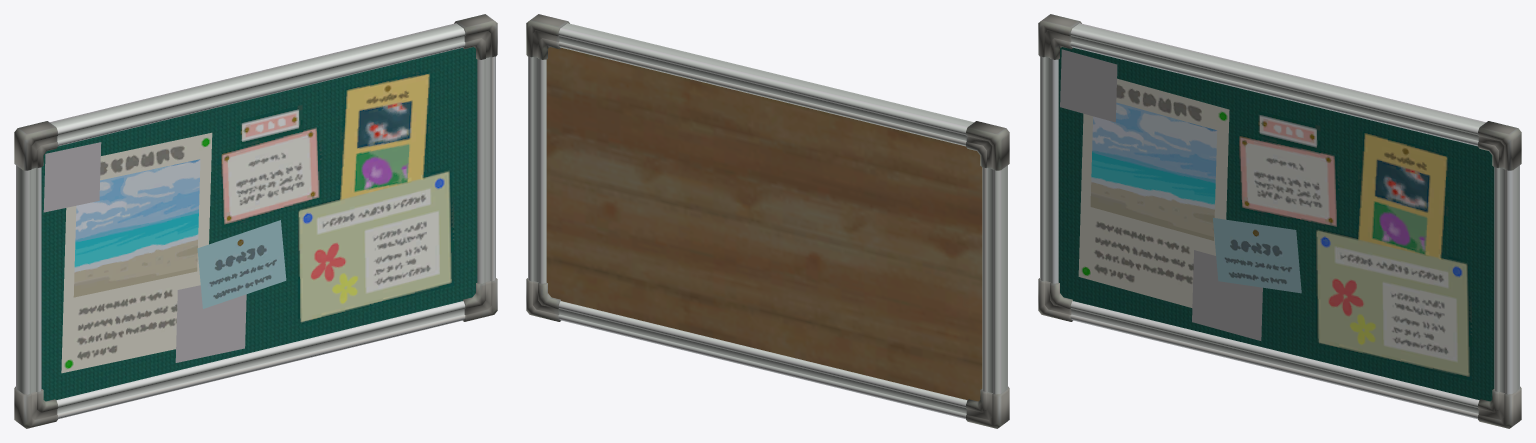
Rendered from bulletinboard.glb.
3 views of the same model, side by side, from view 1: azimuth 30°, elevation 25°; view 2: azimuth 150°, elevation 25°; view 3: azimuth 330°, elevation 25° (orthographic).
Parts seen in each view (by area): view 1: FtrBulletinboard_node1, FtrBulletinboard_node2; view 2: FtrBulletinboard_node1; view 3: FtrBulletinboard_node1, FtrBulletinboard_node2.
Boxes of the visible parts, x1,y1,x2,y2 form: FtrBulletinboard_node1: (14, 14, 497, 428); FtrBulletinboard_node2: (73, 159, 200, 297); FtrBulletinboard_node1: (526, 14, 1009, 428); FtrBulletinboard_node1: (1038, 14, 1521, 428); FtrBulletinboard_node2: (1090, 102, 1217, 240).
Bounding box in the file's own units: 15.54 × 9.21 × 0.664.
Materials: 2 (2 with a texture image).
